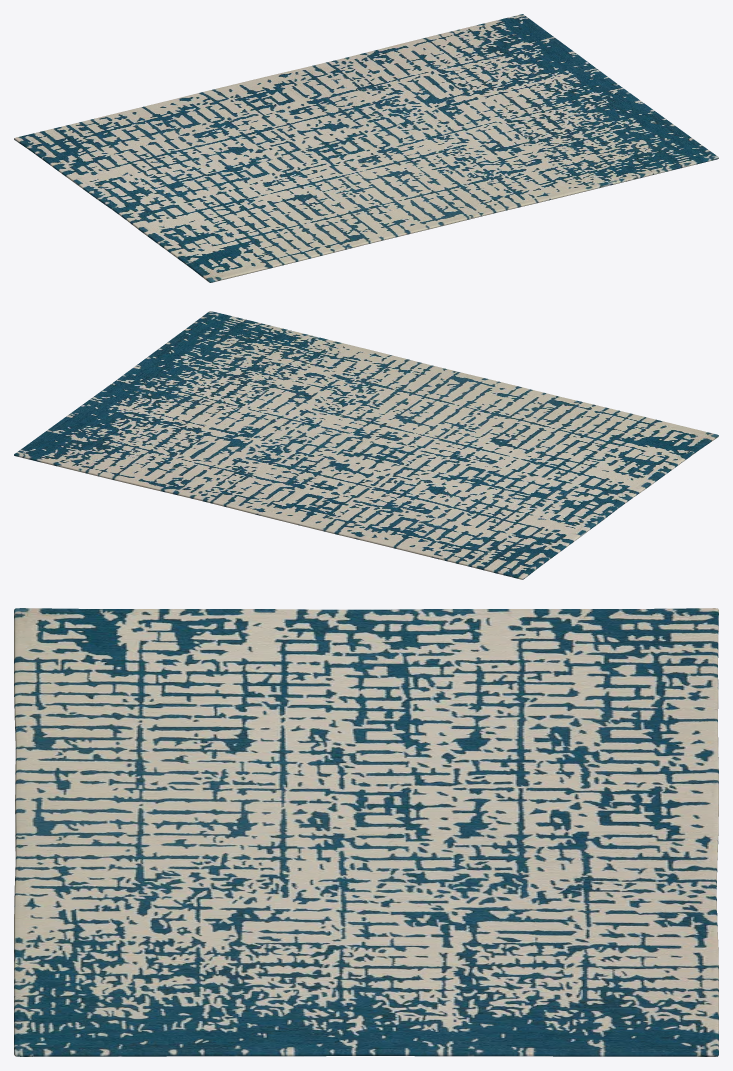
Rendered from B07QB8JSNZ.glb.
3 renders of one model, top to bottom at view 1: azimuth 30°, elevation 25°; view 2: azimuth 150°, elevation 25°; view 3: azimuth 270°, elevation 25°, orthographic. The views are drawn at different scales.
Visible parts, largest first — view 1: RootNode; view 2: RootNode; view 3: RootNode.
Part boxes in pixels (<box>): RootNode: <box>14,14,718,282</box>; RootNode: <box>14,311,718,579</box>; RootNode: <box>14,608,718,1056</box>.
Size of the model in its own units: 1.83 by 0.00747 by 1.22.
Materials: 1 (1 with a texture image).
